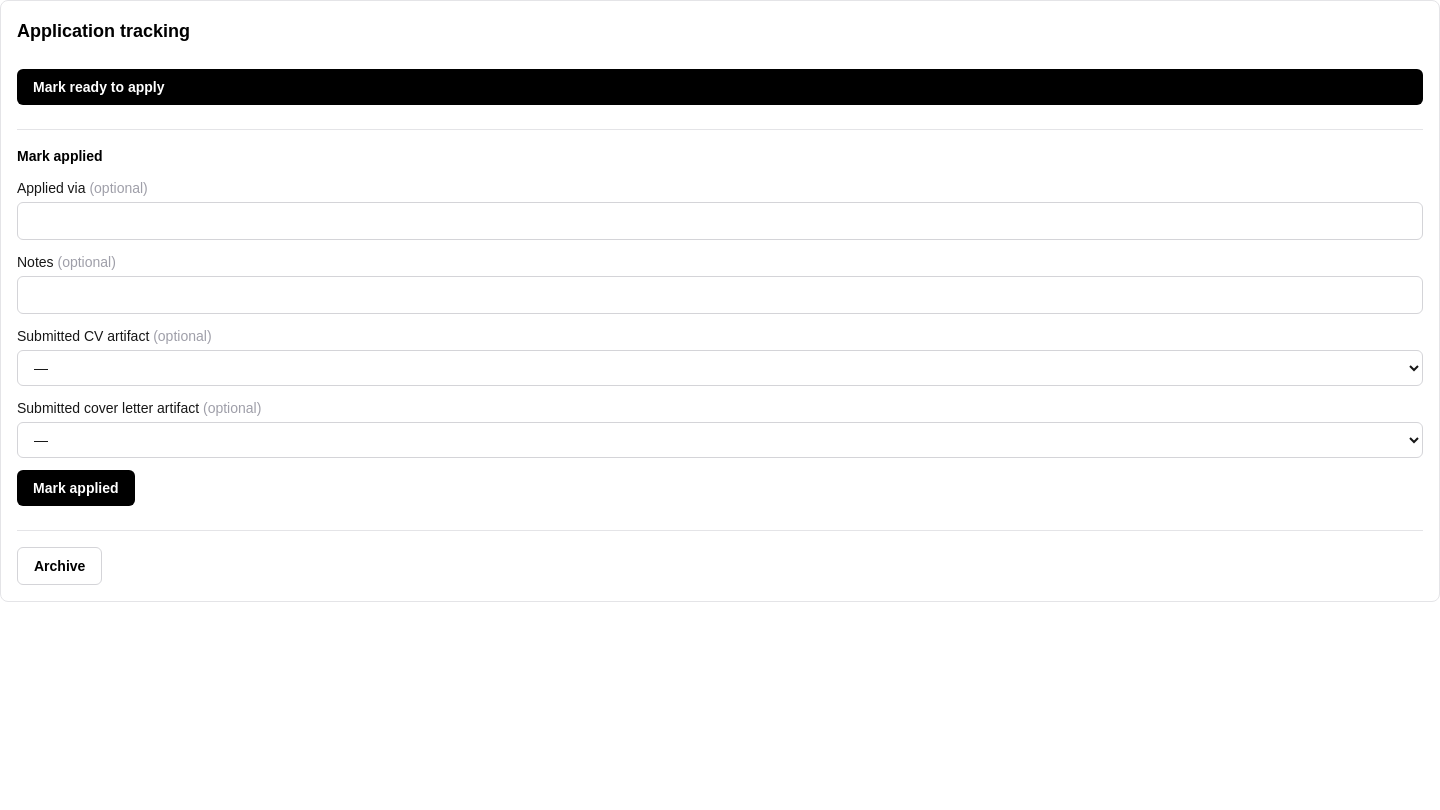
it: ApplicationTrackingPanel › surfaces action-level errors without refreshing
Click the button "Mark ready to apply" at (99, 87), box [17, 69, 1423, 105]
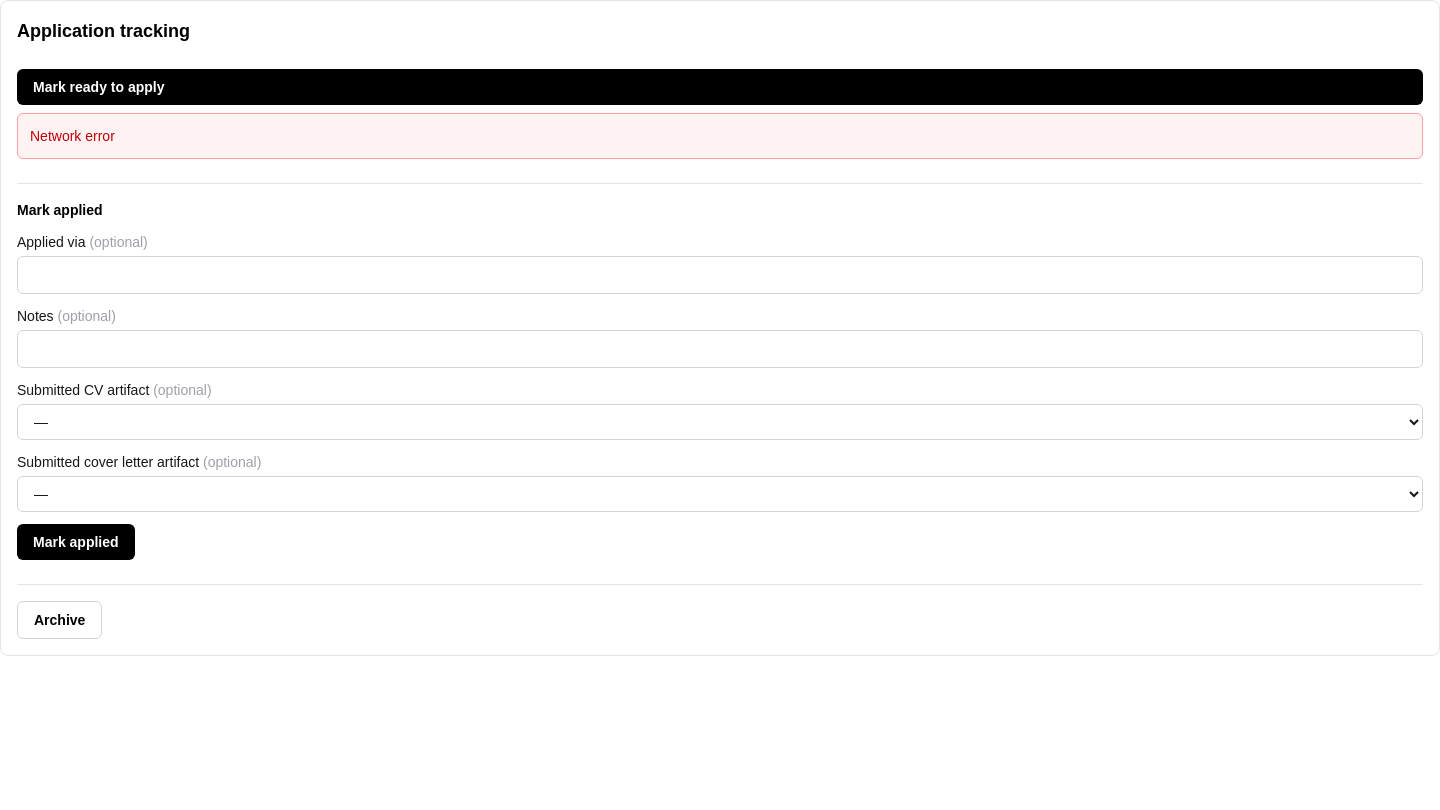
Expected: the list item "Network error" is shown, [30, 128, 115, 144]
